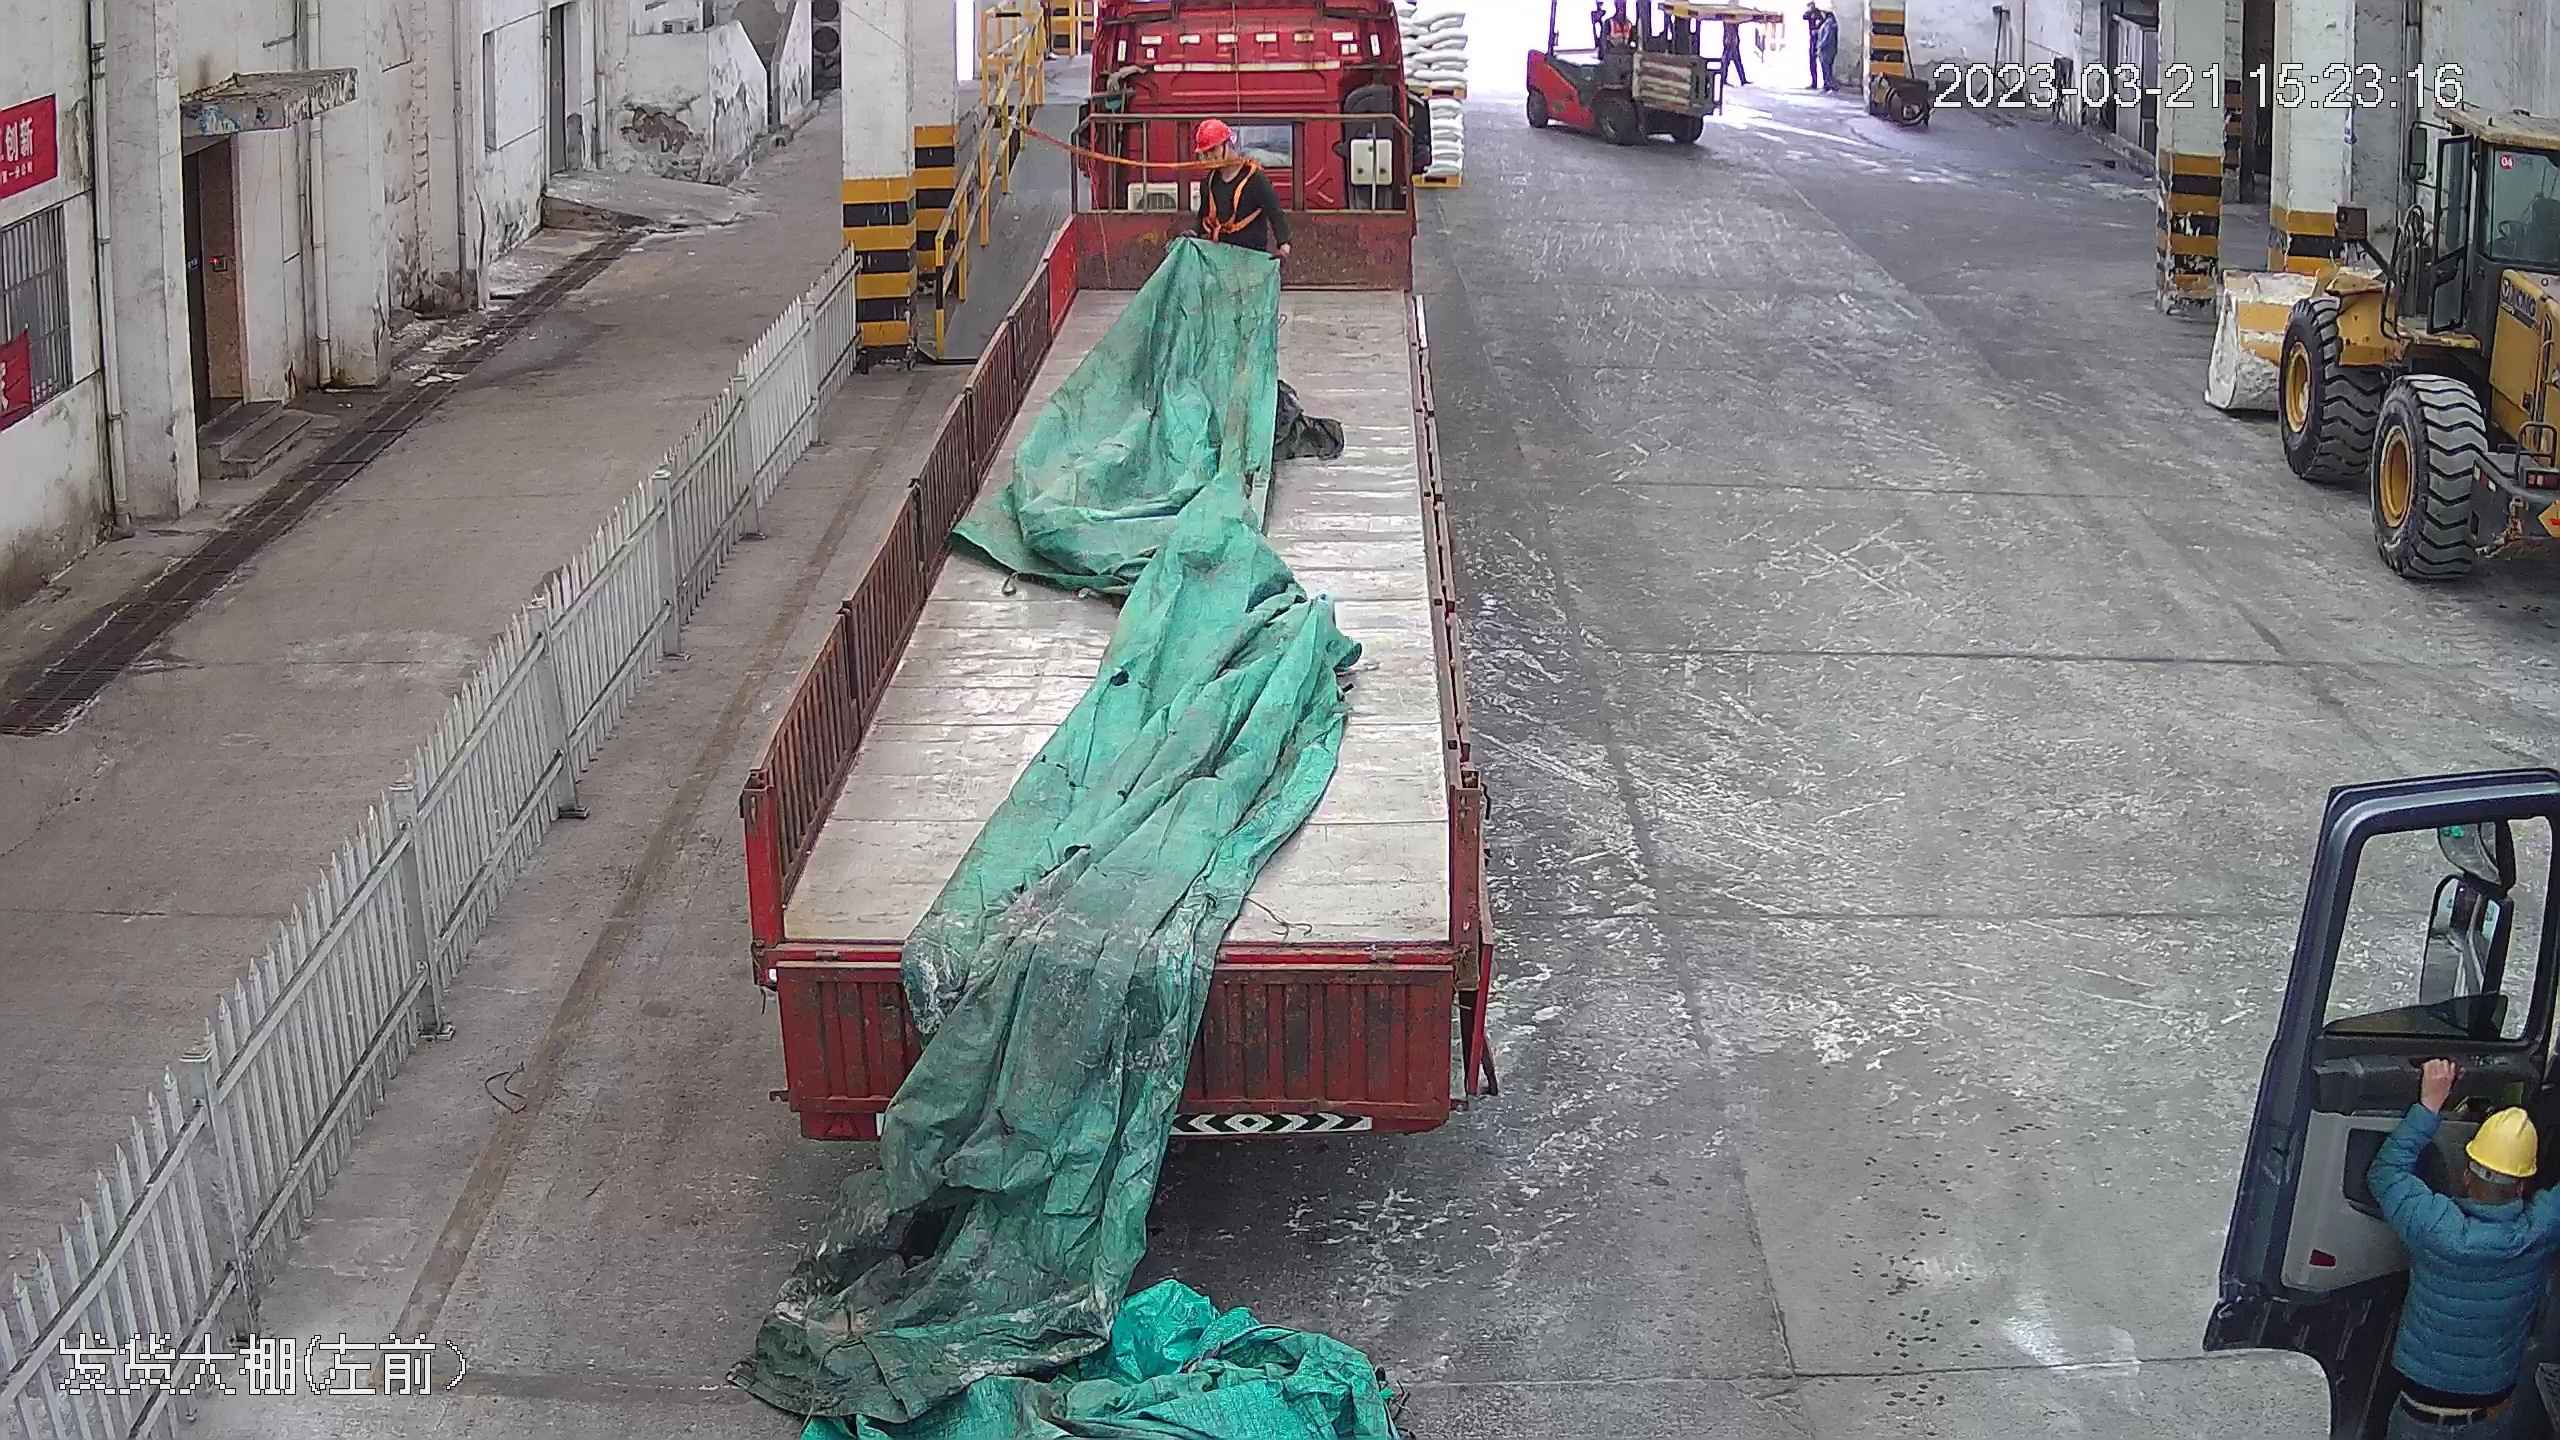belt: (1195, 143, 1275, 249)
head: (2392, 1102, 2554, 1270), (1188, 121, 1270, 203)
helmet: (2466, 1104, 2541, 1179), (1192, 119, 1236, 153)
people: (2363, 1102, 2557, 1440), (1183, 118, 1285, 255), (1815, 8, 1843, 101)
truck: (715, 1, 1523, 1327)
